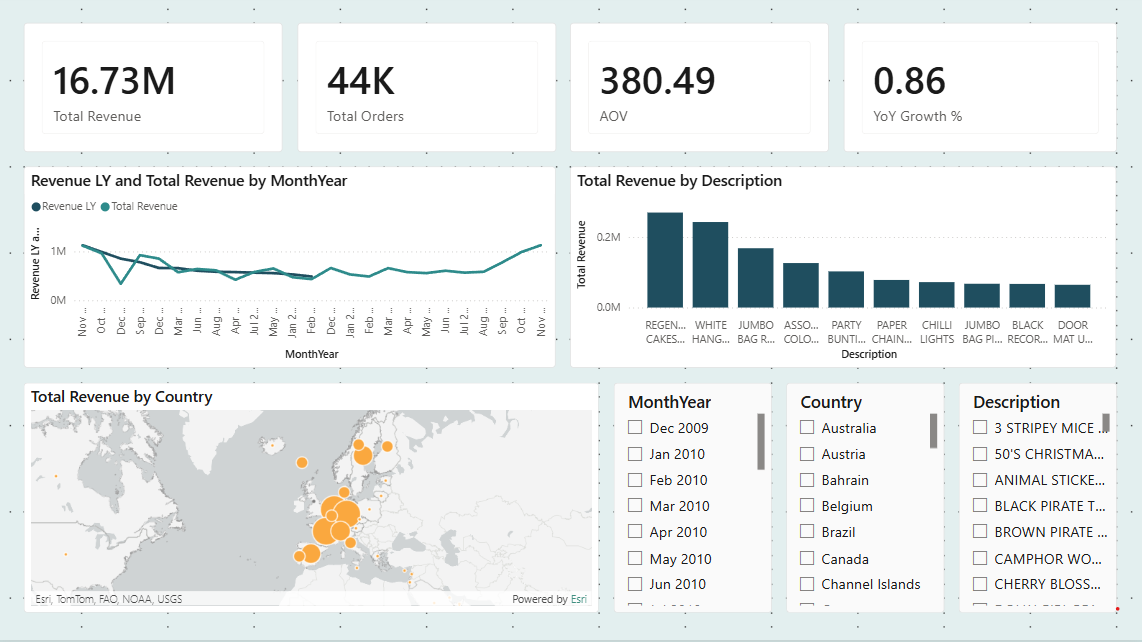

What the dashboard file says about the page in this screenshot:
{"tool":"powerbi","page":{"name":"Overview","canvas":[1280,720],"ordinal":0},"visuals":[{"type":"cardVisual","fields":{"Data":["_Measures.Total Revenue"]},"box":[32,32,288,144],"z":0},{"type":"cardVisual","fields":{"Data":["_Measures.Total Orders"]},"box":[336,32,288,144],"z":1000},{"type":"cardVisual","fields":{"Data":["_Measures.AOV"]},"box":[640,32,288,144],"z":2000},{"type":"cardVisual","fields":{"Data":["_Measures.YoY Growth %"]},"box":[944,32,304,144],"z":3000},{"type":"lineChart","fields":{"Category":["DimDate.MonthYear"],"Y":["_Measures.Revenue LY","_Measures.Total Revenue"]},"box":[32,192,592,224],"z":4000},{"type":"clusteredColumnChart","fields":{"Y":["_Measures.Total Revenue"],"Category":["DimProduct.Description"]},"box":[640,192,608,224],"z":5000},{"type":"esriVisual","fields":{"Location":["FactSales.Country"],"Size":["_Measures.Total Revenue"]},"box":[32,432,640,256],"z":6000},{"type":"slicer","fields":{"Values":["DimDate.MonthYear"]},"box":[688,432,176,256],"z":7000},{"type":"slicer","fields":{"Values":["FactSales.Country"]},"box":[880,432,176,256],"z":8000},{"type":"slicer","fields":{"Values":["DimProduct.Description"]},"box":[1072,432,176,256],"z":9000}]}

Visuals, with their boxes in screenshot pixels (x1, y1, x2, y2), scaled from the page's 1280x720 canvas onto the 1142x642 screenshot:
cardVisual - _Measures.Total Revenue: region(29, 29, 286, 157)
cardVisual - _Measures.Total Orders: region(300, 29, 557, 157)
cardVisual - _Measures.AOV: region(571, 29, 828, 157)
cardVisual - _Measures.YoY Growth %: region(842, 29, 1113, 157)
lineChart - DimDate.MonthYear x _Measures.Revenue LY: region(29, 171, 557, 371)
clusteredColumnChart - _Measures.Total Revenue x DimProduct.Description: region(571, 171, 1113, 371)
esriVisual - FactSales.Country x _Measures.Total Revenue: region(29, 385, 600, 613)
slicer - DimDate.MonthYear: region(614, 385, 771, 613)
slicer - FactSales.Country: region(785, 385, 942, 613)
slicer - DimProduct.Description: region(956, 385, 1113, 613)
